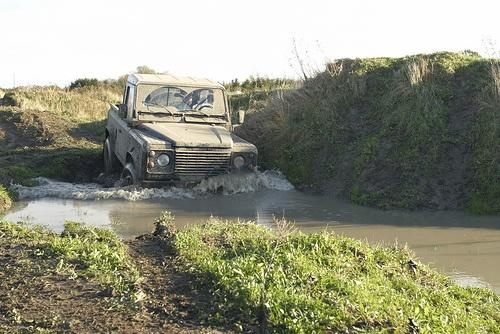car: (100, 73, 263, 200)
